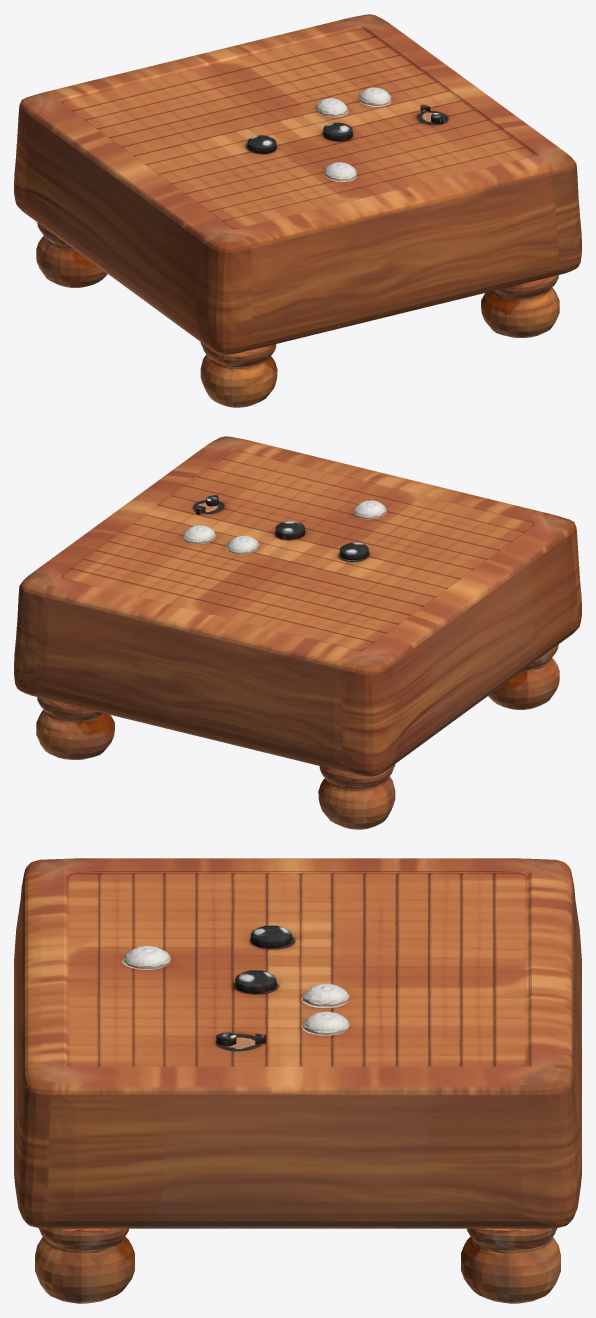
Rendered from Go_Board.glb.
The picture shows the model from 3 angles, top to bottom: view 1: azimuth 30°, elevation 25°; view 2: azimuth 150°, elevation 25°; view 3: azimuth 270°, elevation 25°; orthographic projection. The views are drawn at different scales.
Parts seen in each view (by area): view 1: tripo_node_cbad03fe-2bfd-441e-aefd-3cdbc2abea9f; view 2: tripo_node_cbad03fe-2bfd-441e-aefd-3cdbc2abea9f; view 3: tripo_node_cbad03fe-2bfd-441e-aefd-3cdbc2abea9f.
Part boxes in pixels (left/top/right/bottom): tripo_node_cbad03fe-2bfd-441e-aefd-3cdbc2abea9f: left=14, top=14, right=581, bottom=407; tripo_node_cbad03fe-2bfd-441e-aefd-3cdbc2abea9f: left=14, top=436, right=581, bottom=829; tripo_node_cbad03fe-2bfd-441e-aefd-3cdbc2abea9f: left=14, top=858, right=581, bottom=1303.
Bounding box in the file's own units: 1 × 0.4834 × 1.
Materials: 1 (1 with a texture image).
